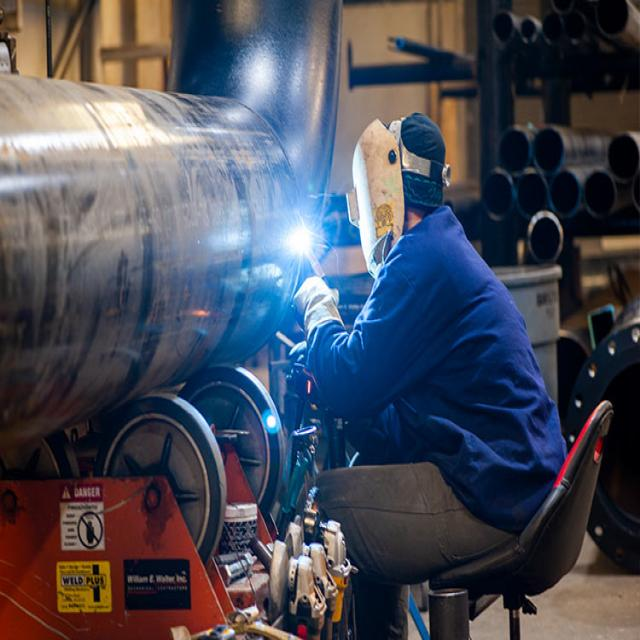welding: (291, 225, 317, 255)
